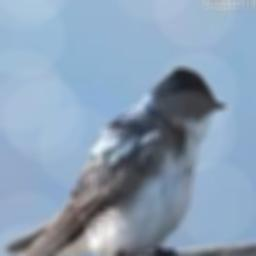Swallow: (4, 68, 226, 256)
